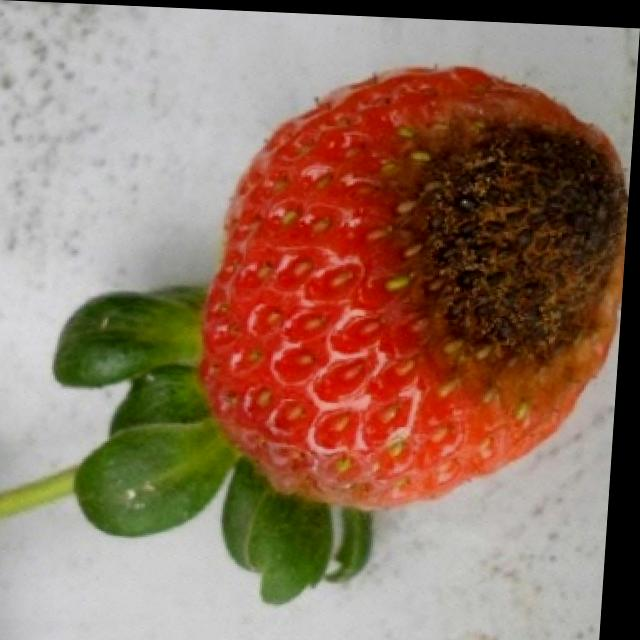Anthracnose Fruit Rot: (346, 88, 632, 418)
